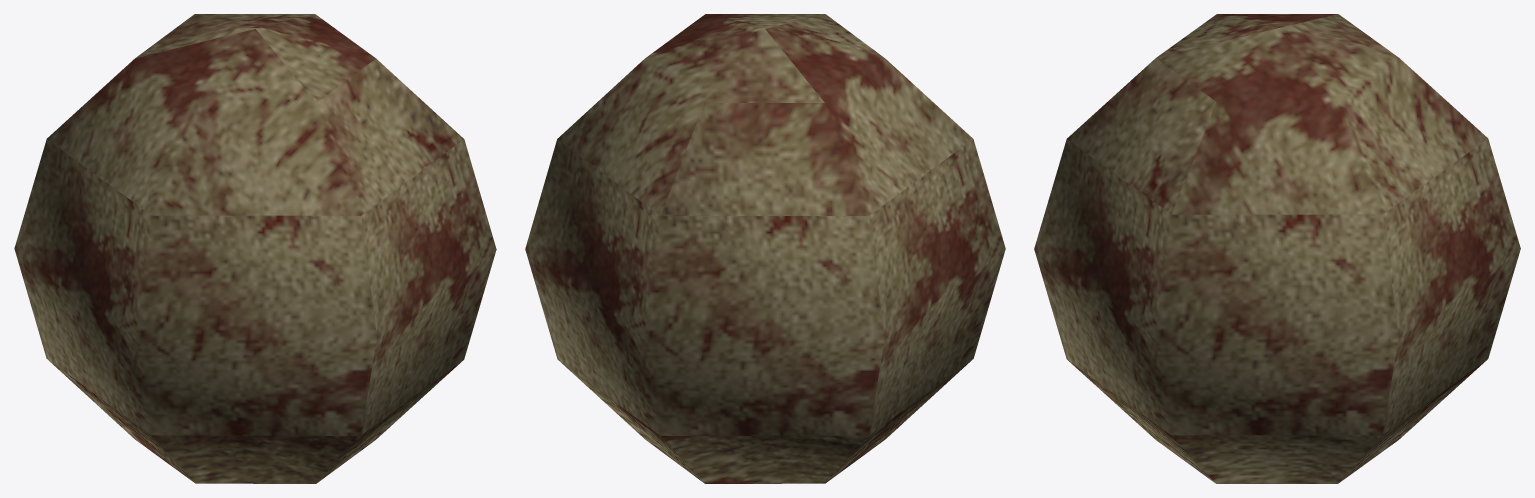
The model's file is SM_EC_HorrorHay_Ball_0.fbx.
3 renders of one model, left to right at view 1: azimuth 30°, elevation 25°; view 2: azimuth 150°, elevation 25°; view 3: azimuth 270°, elevation 25°, orthographic.
Visible parts, largest first — view 1: SM_EC_HorrorHay_Ball_0; view 2: SM_EC_HorrorHay_Ball_0; view 3: SM_EC_HorrorHay_Ball_0.
Boxes of the visible parts, <box> form: SM_EC_HorrorHay_Ball_0: <box>14,14,496,483</box>; SM_EC_HorrorHay_Ball_0: <box>525,14,1005,483</box>; SM_EC_HorrorHay_Ball_0: <box>1034,14,1520,483</box>.
Size of the model in its own units: 2.06 by 2.41 by 2.41.
